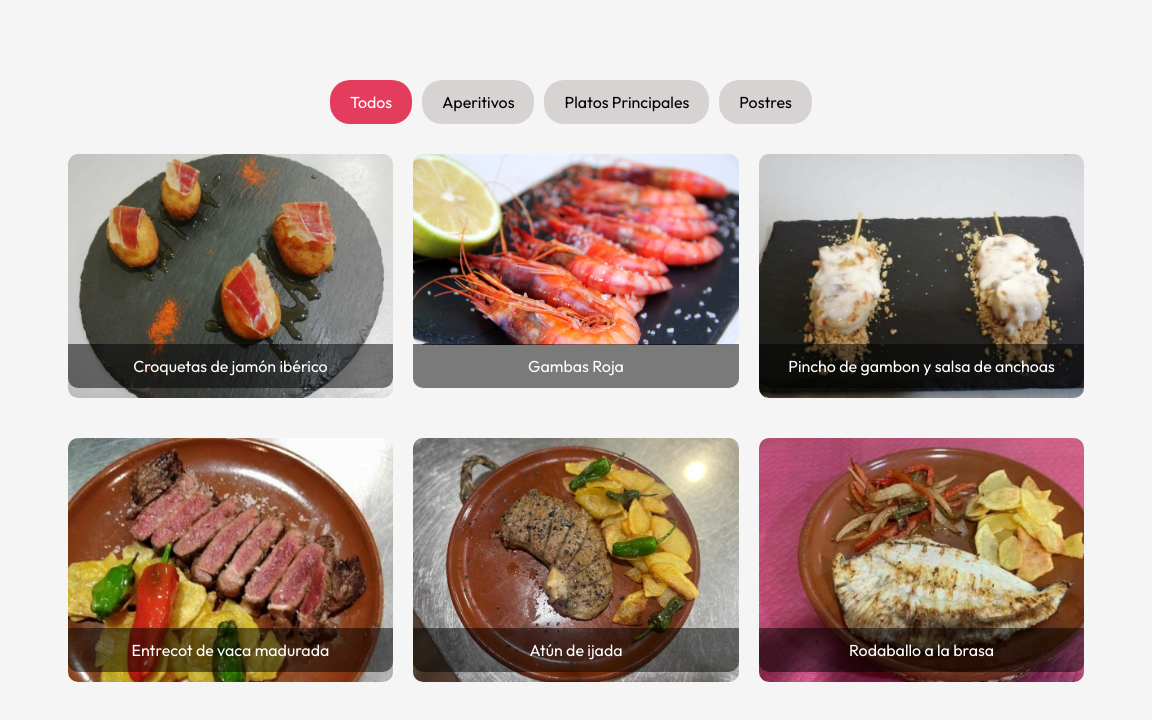
Test: Gastronomy › shows all dishes again when clicking Todos after a filter
Click the button "Aperitivos" at point(478, 102), box [422, 80, 534, 124]
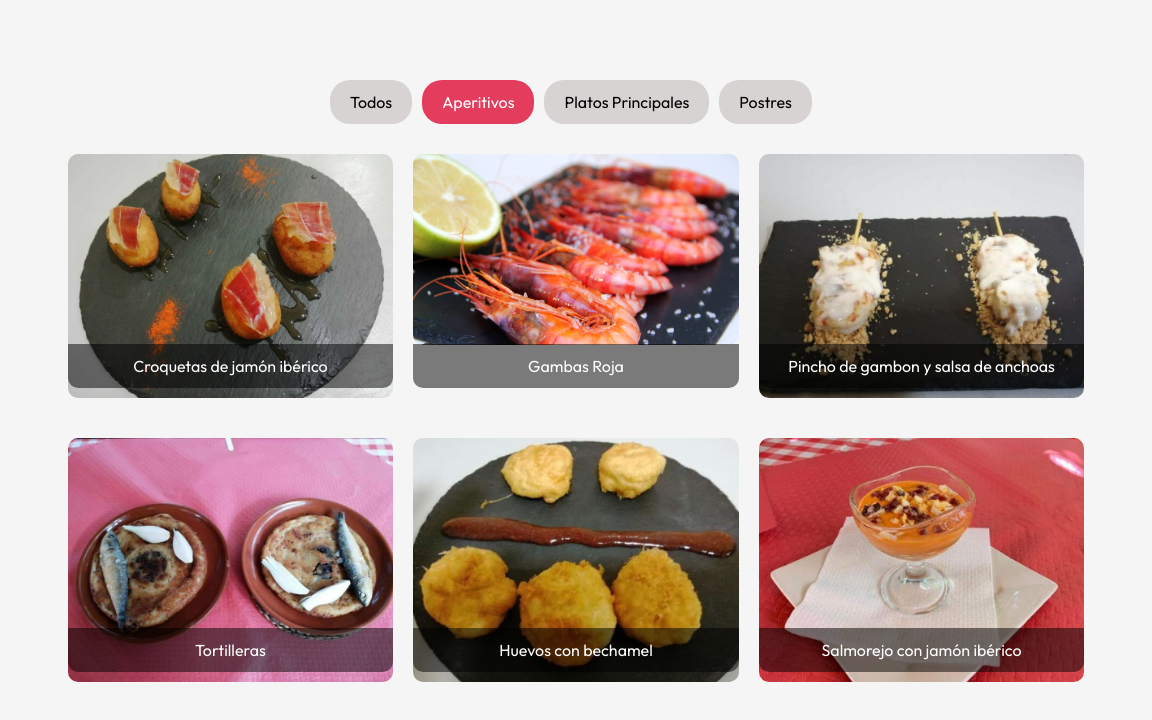
Click the button "Todos" at point(371, 102), box [330, 80, 412, 124]
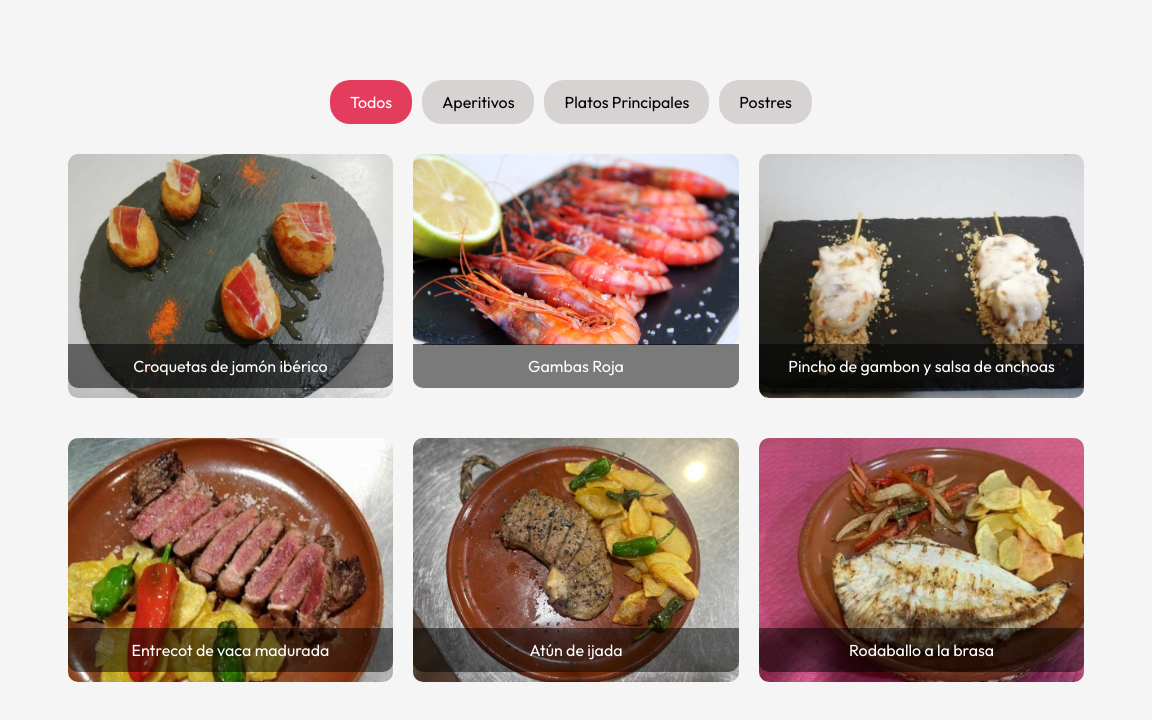
expect the number of pictures is 12: met
